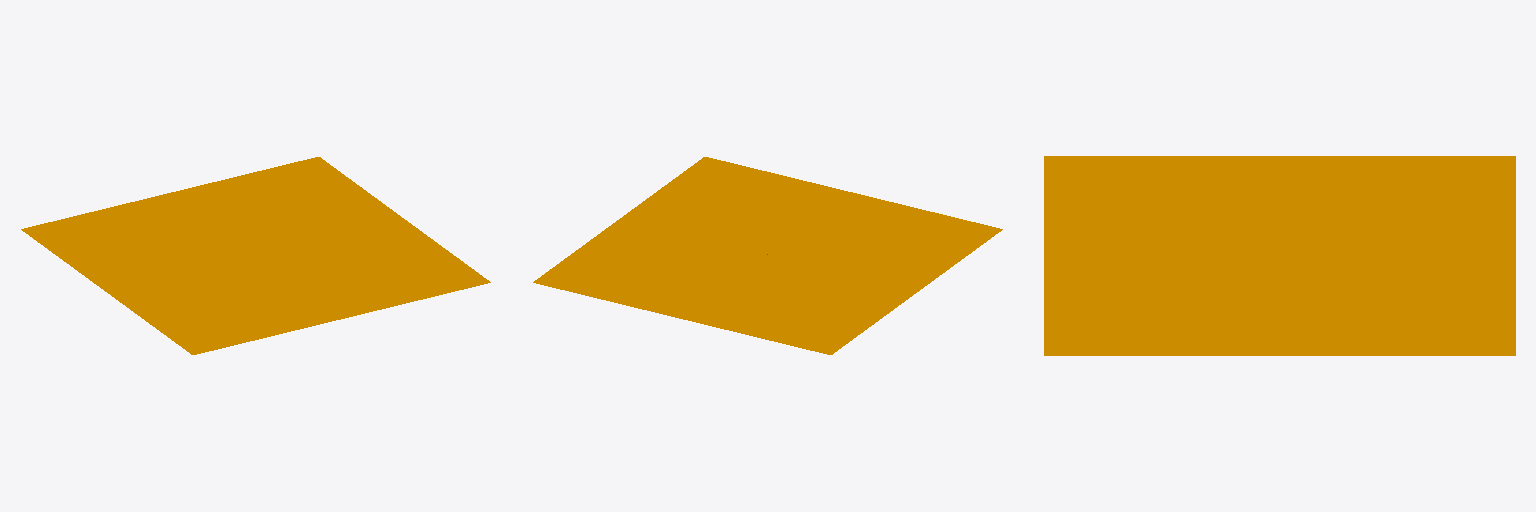
--- Facts derived from the render (not from the file) ---
The picture shows the robot from 3 angles, left to right: view 1: azimuth 30°, elevation 25°; view 2: azimuth 150°, elevation 25°; view 3: azimuth 270°, elevation 25°; orthographic projection.
Model new_hand1 with 19 links and 18 joints (17 revolute, 1 fixed), rooted at World, posed all joints at 0.
Links seen in each view (by area): view 1: World; view 2: World; view 3: World.
Boxes of the visible links, bbox=[...] form: World: bbox=[21, 157, 490, 354]; World: bbox=[533, 157, 1002, 354]; World: bbox=[1044, 156, 1515, 355].
Size in the robot's own frame: 50 by 50 by 0.333 metres.
Meshes: 63 distinct files referenced, 63 mesh visuals loaded (63 OBJ).

robot.urdf — new_hand1:
<?xml version="1.0" encoding="UTF-8"?>
<robot name="new_hand1">
  <joint name="right_index_abd" type="revolute">
    <origin xyz="-0.0260888 0.00334 0.0638849" rpy="1.5348927 -1.13552 3.0882027"/>
    <parent link="right_wrist_jointbody"/>
    <child link="right_index_abd_jointbody"/>
    <axis xyz="0. 0. 1."/>
    <limit lower="-1.04577" upper="0.24577" effort="100." velocity="99.9999945"/>
  </joint>
  <joint name="right_index_mcp" type="revolute">
    <origin xyz="0.02 0. -0. " rpy="3.1315856 1.5707927 -0.0100071"/>
    <parent link="right_index_abd_jointbody"/>
    <child link="right_index_mcp_jointbody"/>
    <axis xyz="0. 1. 0."/>
    <limit lower="-0.34907" upper="1.6580599" effort="100." velocity="99.9999945"/>
  </joint>
  <joint name="right_index_pip" type="revolute">
    <origin xyz="0.0005 0. -0.038 " rpy="0.0000001 0. 0. "/>
    <parent link="right_index_mcp_jointbody"/>
    <child link="right_index_pip_jointbody"/>
    <axis xyz="0. 1. 0."/>
    <limit lower="-0.34907" upper="1.88496" effort="100." velocity="99.9999945"/>
  </joint>
  <joint name="right_middle_abd" type="revolute">
    <origin xyz="-0.0020001 0.00144 0.06872 " rpy="-1.6035732 -1.5707927 0.0327734"/>
    <parent link="right_wrist_jointbody"/>
    <child link="right_middle_abd_jointbody"/>
    <axis xyz="0. 0. 1."/>
    <limit lower="-0.64577" upper="0.64577" effort="100." velocity="99.9999945"/>
  </joint>
  <joint name="right_middle_mcp" type="revolute">
    <origin xyz="0.02 -0. 0. " rpy="-3.1361406 1.5707927 0.005452 "/>
    <parent link="right_middle_abd_jointbody"/>
    <child link="right_middle_mcp_jointbody"/>
    <axis xyz="0. 1. 0."/>
    <limit lower="-0.34907" upper="1.58825" effort="100." velocity="99.9999945"/>
  </joint>
  <joint name="right_middle_pip" type="revolute">
    <origin xyz="0.0005 -0. -0.046 " rpy="-0.0000001 -0. -0.0000002"/>
    <parent link="right_middle_mcp_jointbody"/>
    <child link="right_middle_pip_jointbody"/>
    <axis xyz="0. 1. 0."/>
    <limit lower="-0.34907" upper="1.8674999" effort="100." velocity="99.9999945"/>
  </joint>
  <joint name="right_pinky_abd" type="revolute">
    <origin xyz="0.0405845 0.0064281 0.0459637" rpy="-1.6446526 -0.86149 0.2578627"/>
    <parent link="right_wrist_jointbody"/>
    <child link="right_pinky_abd_jointbody"/>
    <axis xyz="0. 0. 1."/>
    <limit lower="-0.12244" upper="1.1691" effort="100." velocity="99.9999945"/>
  </joint>
  <joint name="right_pinky_mcp" type="revolute">
    <origin xyz="0.02 -0. 0. " rpy="-3.1369045 1.5707927 0.004688 "/>
    <parent link="right_pinky_abd_jointbody"/>
    <child link="right_pinky_mcp_jointbody"/>
    <axis xyz="0. 1. 0."/>
    <limit lower="-0.34907" upper="1.7104199" effort="100." velocity="99.9999945"/>
  </joint>
  <joint name="right_pinky_pip" type="revolute">
    <origin xyz="0.0005 0. -0.033 " rpy="0.0000001 0.0000001 -0.0000003"/>
    <parent link="right_pinky_mcp_jointbody"/>
    <child link="right_pinky_pip_jointbody"/>
    <axis xyz="0. 1. 0."/>
    <limit lower="-0.34907" upper="1.88496" effort="100." velocity="99.9999945"/>
  </joint>
  <joint name="right_ring_abd" type="revolute">
    <origin xyz="0.019521 0.0029782 0.0595448" rpy="-1.6056225 -1.30836 0.0871825"/>
    <parent link="right_wrist_jointbody"/>
    <child link="right_ring_abd_jointbody"/>
    <axis xyz="0. 0. 1."/>
    <limit lower="-0.47577" upper="0.8057699" effort="100." velocity="99.9999945"/>
  </joint>
  <joint name="right_ring_mcp" type="revolute">
    <origin xyz="0.02 -0. -0. " rpy="3.1384497 1.5707927 -0.0031431"/>
    <parent link="right_ring_abd_jointbody"/>
    <child link="right_ring_mcp_jointbody"/>
    <axis xyz="0. 1. 0."/>
    <limit lower="-0.34907" upper="1.58825" effort="100." velocity="99.9999945"/>
  </joint>
  <joint name="right_ring_pip" type="revolute">
    <origin xyz="0.0005 0. -0.046 " rpy="0. 0. -0."/>
    <parent link="right_ring_mcp_jointbody"/>
    <child link="right_ring_pip_jointbody"/>
    <axis xyz="0. 1. 0."/>
    <limit lower="-0.34907" upper="1.8674999" effort="100." velocity="99.9999945"/>
  </joint>
  <joint name="right_thumb_abd" type="revolute">
    <origin xyz="-0. 0. -0." rpy="1.9198629 -0.0000002 1.5707964"/>
    <parent link="right_thumb_mcp_jointbody"/>
    <child link="right_thumb_abd_jointbody"/>
    <axis xyz="1. 0. 0."/>
    <limit lower="-1.08211" upper="0." effort="100." velocity="99.9999945"/>
  </joint>
  <joint name="right_thumb_dip" type="revolute">
    <origin xyz="0.0005 -0. -0.033 " rpy="-0.0000002 -0.0000001 0.0000001"/>
    <parent link="right_thumb_pip_jointbody"/>
    <child link="right_thumb_dip_jointbody"/>
    <axis xyz="0. 1. 0."/>
    <limit lower="-0.8538399" upper="1.45" effort="100." velocity="99.9999945"/>
  </joint>
  <joint name="right_thumb_mcp" type="revolute">
    <origin xyz="-0.03021 0.01921 0.02551" rpy="2.6030226 0.05595 1.8711226"/>
    <parent link="right_wrist_jointbody"/>
    <child link="right_thumb_mcp_jointbody"/>
    <axis xyz="0. 0. 1."/>
    <limit lower="-0.87266" upper="0.87266" effort="100." velocity="99.9999945"/>
  </joint>
  <joint name="right_thumb_pip" type="revolute">
    <origin xyz="0. 0.0102606 0.0281908" rpy="-2.8120465 0.1172432 2.8120427"/>
    <parent link="right_thumb_abd_jointbody"/>
    <child link="right_thumb_pip_jointbody"/>
    <axis xyz="0. 1. 0."/>
    <limit lower="-0.7943999" upper="1.23" effort="100." velocity="99.9999945"/>
  </joint>
  <joint name="right_wrist" type="revolute">
    <origin xyz="0.00063 0. 0.10487" rpy="0. 0. 0."/>
    <parent link="hand_base"/>
    <child link="right_wrist_jointbody"/>
    <axis xyz="1. 0. 0."/>
    <limit lower="-0.6736" upper="0.8971999" effort="100." velocity="99.9999945"/>
  </joint>
  <joint name="root_joint" type="fixed">
    <origin xyz="0. 0. 0.0498567" rpy="0. 0. 0."/>
    <parent link="World"/>
    <child link="hand_base"/>
  </joint>
  <link name="World">
    <visual>
      <origin xyz="0. 0. 0." rpy="0. 0. 0."/>
      <geometry>
        <mesh filename="meshes/CollisionMesh.obj" scale="1. 1. 1."/>
      </geometry>
    </visual>
  </link>
  <link name="hand_base">
    <inertial>
      <origin xyz="0.0003396 -0.000909 0.0190988" rpy="0. 0. 0."/>
      <mass value="0.901"/>
      <inertia ixx="0.0015041" ixy="0.0000104" ixz="-0.0000052" iyy="0.0012534" iyz="-0.0000014" izz="0.0007962"/>
    </inertial>
    <visual>
      <origin xyz="0.0006951 -0.0001251 0.0231229" rpy="-0.0072522 -0.0043563 1.5339901"/>
      <geometry>
        <mesh filename="meshes/right_visual_tower_main_mesh_mesh.obj" scale="1. 1. 1."/>
      </geometry>
    </visual>
    <visual>
      <origin xyz="0.0006201 -0.0000037 0.0093393" rpy="1.5694791 0.0001519 -0.0006505"/>
      <geometry>
        <mesh filename="meshes/right_visual_tower_hull_mesh_mesh.obj" scale="1. 1. 1."/>
      </geometry>
    </visual>
    <visual>
      <origin xyz="0.0006175 0.0000044 0.0273773" rpy="-0.0000578 -1.5702411 1.5988764"/>
      <geometry>
        <mesh filename="meshes/right_visual_tower_text_mesh_mesh.obj" scale="1. 1. 1."/>
      </geometry>
    </visual>
    <visual>
      <origin xyz="0.0010261 0.0008755 0.0375895" rpy="0.0663642 -0.105327 -0.7765911"/>
      <geometry>
        <mesh filename="meshes/right_collision_tower_main_mesh_mesh.obj" scale="1. 1. 1."/>
      </geometry>
    </visual>
    <visual>
      <origin xyz="0.0006188 0.0000071 0.0093062" rpy="1.5691929 -0.0000693 -0.0012917"/>
      <geometry>
        <mesh filename="meshes/right_collision_tower_hull_mesh_mesh.obj" scale="1. 1. 1."/>
      </geometry>
    </visual>
    <visual>
      <origin xyz="0.0006835 -0.0011251 0.0277161" rpy="-2.2396595 -1.5545672 -2.4480784"/>
      <geometry>
        <mesh filename="meshes/right_collision_tower_text_mesh_mesh.obj" scale="1. 1. 1."/>
      </geometry>
    </visual>
  </link>
  <link name="right_index_abd_jointbody">
    <inertial>
      <origin xyz="-0.007037 0. -0.0000333" rpy="0. 0. 0."/>
      <mass value="0.00598"/>
      <inertia ixx="0.0000002" ixy="0." ixz="-0." iyy="0.0000004" iyz="0." izz="0.0000004"/>
    </inertial>
    <visual>
      <origin xyz="0.0093015 -0.0000139 0.0002788" rpy="-0.0118206 1.506674 -3.141592 "/>
      <geometry>
        <mesh filename="meshes/right_visual_index_mp_mesh_mesh.obj" scale="1. 1. 1."/>
      </geometry>
    </visual>
    <visual>
      <origin xyz="0.0095218 -0.0000446 0.0001648" rpy="-2.21338 1.5147948 0.9289652"/>
      <geometry>
        <mesh filename="meshes/right_collision_index_mp_mesh_mesh.obj" scale="1. 1. 1."/>
      </geometry>
    </visual>
  </link>
  <link name="right_index_mcp_jointbody">
    <inertial>
      <origin xyz="0.0012729 0.0000189 0.0154346" rpy="0. 0. 0."/>
      <mass value="0.0175"/>
      <inertia ixx="0.0000026" ixy="0." ixz="-0.0000001" iyy="0.0000026" iyz="0." izz="0.0000007"/>
    </inertial>
    <visual>
      <origin xyz="0.0012792 -0.0000432 -0.0160987" rpy="-3.1360765 -0.0351009 -0.0391045"/>
      <geometry>
        <mesh filename="meshes/right_visual_index_pp_mesh_mesh.obj" scale="1. 1. 1."/>
      </geometry>
    </visual>
    <visual>
      <origin xyz="0.0016617 -0.0000001 -0.0187639" rpy="0.0000002 0.8345405 0.0000001"/>
      <geometry>
        <mesh filename="meshes/right_visual_index_pp_skin_mesh_mesh.obj" scale="1. 1. 1."/>
      </geometry>
    </visual>
    <visual>
      <origin xyz="0.0013517 -0.0000112 -0.0156818" rpy="-3.1415925 -0.0428807 0. "/>
      <geometry>
        <mesh filename="meshes/right_collision_index_pp_mesh_mesh.obj" scale="1. 1. 1."/>
      </geometry>
    </visual>
    <visual>
      <origin xyz="0.0016774 0.0000055 -0.0187409" rpy="0.0000002 0.8259684 0.0000001"/>
      <geometry>
        <mesh filename="meshes/right_collision_index_pp_skin_mesh_mesh.obj" scale="1. 1. 1."/>
      </geometry>
    </visual>
  </link>
  <link name="right_index_pip_jointbody">
    <inertial>
      <origin xyz="0.0006662 0.0000094 0.0181 " rpy="0. 0. 0."/>
      <mass value="0.01621"/>
      <inertia ixx="0.0000024" ixy="-0." ixz="0.0000003" iyy="0.0000024" iyz="0." izz="0.0000006"/>
    </inertial>
    <visual>
      <origin xyz="0.0010417 -0.0000784 -0.0117937" rpy="3.1071048 0.003439 -1.570915 "/>
      <geometry>
        <mesh filename="meshes/right_visual_index_ip_mesh_mesh.obj" scale="1. 1. 1."/>
      </geometry>
    </visual>
    <visual>
      <origin xyz="0.0006178 0.0000003 -0.0229819" rpy="3.1415927 0.4563592 0. "/>
      <geometry>
        <mesh filename="meshes/right_visual_index_ip_skin_mesh_mesh.obj" scale="1. 1. 1."/>
      </geometry>
    </visual>
    <visual>
      <origin xyz="0.0012645 0.0000164 -0.011472 " rpy="-3.139792 0. -1.5707964"/>
      <geometry>
        <mesh filename="meshes/right_collision_index_ip_mesh_mesh.obj" scale="1. 1. 1."/>
      </geometry>
    </visual>
    <visual>
      <origin xyz="0.0006217 -0.0000024 -0.023021 " rpy="3.1415927 0.4457044 0. "/>
      <geometry>
        <mesh filename="meshes/right_collision_index_ip_skin_mesh_mesh.obj" scale="1. 1. 1."/>
      </geometry>
    </visual>
  </link>
  <link name="right_middle_abd_jointbody">
    <inertial>
      <origin xyz="-0.007037 0. -0.0000333" rpy="0. 0. 0."/>
      <mass value="0.00598"/>
      <inertia ixx="0.0000002" ixy="0." ixz="-0." iyy="0.0000004" iyz="0." izz="0.0000004"/>
    </inertial>
    <visual>
      <origin xyz="0.0093015 -0.0000139 0.0002788" rpy="-0.0118215 1.506674 3.1415923"/>
      <geometry>
        <mesh filename="meshes/right_visual_middle_mp_mesh_mesh.obj" scale="1. 1. 1."/>
      </geometry>
    </visual>
    <visual>
      <origin xyz="0.0095218 -0.0000446 0.0001648" rpy="-2.21338 1.5147948 0.9289652"/>
      <geometry>
        <mesh filename="meshes/right_collision_middle_mp_mesh_mesh.obj" scale="1. 1. 1."/>
      </geometry>
    </visual>
  </link>
  <link name="right_middle_mcp_jointbody">
    <inertial>
      <origin xyz="0.0013716 0.0000191 0.0192504" rpy="0. 0. 0."/>
      <mass value="0.02106"/>
      <inertia ixx="0.0000042" ixy="0." ixz="-0.0000001" iyy="0.0000041" iyz="-0." izz="0.0000009"/>
    </inertial>
    <visual>
      <origin xyz="0.0012834 -0.000037 -0.0202272" rpy="-3.137028 -0.0276588 -0.037584 "/>
      <geometry>
        <mesh filename="meshes/right_visual_middle_pp_mesh_mesh.obj" scale="1. 1. 1."/>
      </geometry>
    </visual>
    <visual>
      <origin xyz="0.0017297 -0. -0.0229383" rpy="3.1415925 0.223125 -0.0000002"/>
      <geometry>
        <mesh filename="meshes/right_visual_middle_pp_skin_mesh_mesh.obj" scale="1. 1. 1."/>
      </geometry>
    </visual>
    <visual>
      <origin xyz="0.0013394 0.0000068 -0.0201193" rpy="3.1409516 -0.0298785 -0.0000001"/>
      <geometry>
        <mesh filename="meshes/right_collision_middle_pp_mesh_mesh.obj" scale="1. 1. 1."/>
      </geometry>
    </visual>
    <visual>
      <origin xyz="0.0017526 -0.0000027 -0.0228851" rpy="3.1415925 0.220061 -0.0000002"/>
      <geometry>
        <mesh filename="meshes/right_collision_middle_pp_skin_mesh_mesh.obj" scale="1. 1. 1."/>
      </geometry>
    </visual>
  </link>
  <link name="right_middle_pip_jointbody">
    <inertial>
      <origin xyz="0.0006662 0.0000094 0.0181 " rpy="0. 0. 0."/>
      <mass value="0.01621"/>
      <inertia ixx="0.0000024" ixy="-0." ixz="0.0000003" iyy="0.0000024" iyz="0." izz="0.0000006"/>
    </inertial>
    <visual>
      <origin xyz="0.0010417 -0.0000784 -0.0117938" rpy="3.1071048 0.003439 -1.570915 "/>
      <geometry>
        <mesh filename="meshes/right_visual_middle_ip_mesh_mesh.obj" scale="1. 1. 1."/>
      </geometry>
    </visual>
    <visual>
      <origin xyz="0.0006178 0.0000003 -0.0229819" rpy="3.1415927 0.4563592 0. "/>
      <geometry>
        <mesh filename="meshes/right_visual_middle_ip_skin_mesh_mesh.obj" scale="1. 1. 1."/>
      </geometry>
    </visual>
    <visual>
      <origin xyz="0.0012645 0.0000164 -0.011472 " rpy="-3.139792 0. -1.5707964"/>
      <geometry>
        <mesh filename="meshes/right_collision_middle_ip_mesh_mesh.obj" scale="1. 1. 1."/>
      </geometry>
    </visual>
    <visual>
      <origin xyz="0.0006217 -0.0000024 -0.0230211" rpy="3.1415927 0.4457044 0. "/>
      <geometry>
        <mesh filename="meshes/right_collision_middle_ip_skin_mesh_mesh.obj" scale="1. 1. 1."/>
      </geometry>
    </visual>
  </link>
  <link name="right_pinky_abd_jointbody">
    <inertial>
      <origin xyz="-0.007037 0. -0.0000333" rpy="0. 0. 0."/>
      <mass value="0.00598"/>
      <inertia ixx="0.0000002" ixy="0." ixz="-0." iyy="0.0000004" iyz="0." izz="0.0000004"/>
    </inertial>
    <visual>
      <origin xyz="0.0093015 -0.0000139 0.0002788" rpy="-0.0118215 1.5066742 3.1415923"/>
      <geometry>
        <mesh filename="meshes/right_visual_pinky_mp_mesh_mesh.obj" scale="1. 1. 1."/>
      </geometry>
    </visual>
    <visual>
      <origin xyz="0.0095218 -0.0000446 0.0001648" rpy="-2.2133806 1.5147948 0.9289647"/>
      <geometry>
        <mesh filename="meshes/right_collision_pinky_mp_mesh_mesh.obj" scale="1. 1. 1."/>
      </geometry>
    </visual>
  </link>
  <link name="right_pinky_mcp_jointbody">
    <inertial>
      <origin xyz="0.0012601 0.0000187 0.0129092" rpy="0. 0. 0."/>
      <mass value="0.01502"/>
      <inertia ixx="0.0000019" ixy="0." ixz="-0.0000001" iyy="0.0000018" iyz="0." izz="0.0000006"/>
    </inertial>
    <visual>
      <origin xyz="0.0012999 -0.0000072 -0.0136199" rpy="-3.1415925 -0.0433892 -0.0000003"/>
      <geometry>
        <mesh filename="meshes/right_visual_pinky_pp_mesh_mesh.obj" scale="1. 1. 1."/>
      </geometry>
    </visual>
    <visual>
      <origin xyz="0.0015424 -0.0000002 -0.0162596" rpy="0.0000003 1.2480961 -0.0000001"/>
      <geometry>
        <mesh filename="meshes/right_visual_pinky_pp_skin_mesh_mesh.obj" scale="1. 1. 1."/>
      </geometry>
    </visual>
    <visual>
      <origin xyz="0.001356 -0.0001271 -0.0134463" rpy="-3.1345098 -0.047637 -0.0000003"/>
      <geometry>
        <mesh filename="meshes/right_collision_pinky_pp_mesh_mesh.obj" scale="1. 1. 1."/>
      </geometry>
    </visual>
    <visual>
      <origin xyz="0.0015528 -0.0000065 -0.0162467" rpy="0.0000003 1.2437718 -0.0000001"/>
      <geometry>
        <mesh filename="meshes/right_collision_pinky_pp_skin_mesh_mesh.obj" scale="1. 1. 1."/>
      </geometry>
    </visual>
  </link>
  <link name="right_pinky_pip_jointbody">
    <inertial>
      <origin xyz="0.0006662 0.0000094 0.0181 " rpy="0. 0. 0."/>
      <mass value="0.01621"/>
      <inertia ixx="0.0000024" ixy="-0." ixz="0.0000003" iyy="0.0000024" iyz="0." izz="0.0000006"/>
    </inertial>
    <visual>
      <origin xyz="0.0010417 -0.0000784 -0.0117938" rpy="3.1071048 0.003439 -1.570915 "/>
      <geometry>
        <mesh filename="meshes/right_visual_pinky_ip_mesh_mesh.obj" scale="1. 1. 1."/>
      </geometry>
    </visual>
    <visual>
      <origin xyz="0.0006178 0.0000003 -0.0229819" rpy="3.1415927 0.4563592 0. "/>
      <geometry>
        <mesh filename="meshes/right_visual_pinky_ip_skin_mesh_mesh.obj" scale="1. 1. 1."/>
      </geometry>
    </visual>
    <visual>
      <origin xyz="0.0012645 0.0000164 -0.011472 " rpy="-3.139792 0. -1.5707964"/>
      <geometry>
        <mesh filename="meshes/right_collision_pinky_ip_mesh_mesh.obj" scale="1. 1. 1."/>
      </geometry>
    </visual>
    <visual>
      <origin xyz="0.0006217 -0.0000024 -0.0230211" rpy="3.1415927 0.4457044 0. "/>
      <geometry>
        <mesh filename="meshes/right_collision_pinky_ip_skin_mesh_mesh.obj" scale="1. 1. 1."/>
      </geometry>
    </visual>
  </link>
  <link name="right_ring_abd_jointbody">
    <inertial>
      <origin xyz="-0.007037 0. -0.0000333" rpy="0. 0. 0."/>
      <mass value="0.00598"/>
      <inertia ixx="0.0000002" ixy="0." ixz="-0." iyy="0.0000004" iyz="0." izz="0.0000004"/>
    </inertial>
    <visual>
      <origin xyz="0.0093015 -0.0000139 0.0002788" rpy="-0.011821 1.506674 -3.1415925"/>
      <geometry>
        <mesh filename="meshes/right_visual_ring_mp_mesh_mesh.obj" scale="1. 1. 1."/>
      </geometry>
    </visual>
    <visual>
      <origin xyz="0.0095218 -0.0000446 0.0001648" rpy="-2.2133799 1.5147948 0.9289654"/>
      <geometry>
        <mesh filename="meshes/right_collision_ring_mp_mesh_mesh.obj" scale="1. 1. 1."/>
      </geometry>
    </visual>
  </link>
  <link name="right_ring_mcp_jointbody">
    <inertial>
      <origin xyz="0.0013716 0.0000191 0.0192504" rpy="0. 0. 0."/>
      <mass value="0.02106"/>
      <inertia ixx="0.0000042" ixy="0." ixz="-0.0000001" iyy="0.0000041" iyz="-0." izz="0.0000009"/>
    </inertial>
    <visual>
      <origin xyz="0.0012834 -0.000037 -0.0202272" rpy="-3.137028 -0.0276588 -0.0375839"/>
      <geometry>
        <mesh filename="meshes/right_visual_ring_pp_mesh_mesh.obj" scale="1. 1. 1."/>
      </geometry>
    </visual>
    <visual>
      <origin xyz="0.0017297 -0. -0.0229383" rpy="-3.1415927 0.2231251 -0. "/>
      <geometry>
        <mesh filename="meshes/right_visual_ring_pp_skin_mesh_mesh.obj" scale="1. 1. 1."/>
      </geometry>
    </visual>
    <visual>
      <origin xyz="0.0013394 0.0000068 -0.0201193" rpy="3.1409516 -0.0298784 -0. "/>
      <geometry>
        <mesh filename="meshes/right_collision_ring_pp_mesh_mesh.obj" scale="1. 1. 1."/>
      </geometry>
    </visual>
    <visual>
      <origin xyz="0.0017526 -0.0000027 -0.0228851" rpy="-3.1415927 0.220061 -0. "/>
      <geometry>
        <mesh filename="meshes/right_collision_ring_pp_skin_mesh_mesh.obj" scale="1. 1. 1."/>
      </geometry>
    </visual>
  </link>
  <link name="right_ring_pip_jointbody">
    <inertial>
      <origin xyz="0.0006662 0.0000094 0.0181 " rpy="0. 0. 0."/>
      <mass value="0.01621"/>
      <inertia ixx="0.0000024" ixy="-0." ixz="0.0000003" iyy="0.0000024" iyz="0." izz="0.0000006"/>
    </inertial>
    <visual>
      <origin xyz="0.0010417 -0.0000784 -0.0117937" rpy="3.1071048 0.003439 -1.570915 "/>
      <geometry>
        <mesh filename="meshes/right_visual_ring_ip_mesh_mesh.obj" scale="1. 1. 1."/>
      </geometry>
    </visual>
    <visual>
      <origin xyz="0.0006178 0.0000003 -0.0229819" rpy="3.1415927 0.4563592 0. "/>
      <geometry>
        <mesh filename="meshes/right_visual_ring_ip_skin_mesh_mesh.obj" scale="1. 1. 1."/>
      </geometry>
    </visual>
    <visual>
      <origin xyz="0.0012645 0.0000164 -0.011472 " rpy="-3.139792 0. -1.5707964"/>
      <geometry>
        <mesh filename="meshes/right_collision_ring_ip_mesh_mesh.obj" scale="1. 1. 1."/>
      </geometry>
    </visual>
    <visual>
      <origin xyz="0.0006217 -0.0000024 -0.023021 " rpy="3.1415927 0.4457044 0. "/>
      <geometry>
        <mesh filename="meshes/right_collision_ring_ip_skin_mesh_mesh.obj" scale="1. 1. 1."/>
      </geometry>
    </visual>
  </link>
  <link name="right_thumb_abd_jointbody">
    <inertial>
      <origin xyz="-0.0099942 0.0000087 0.0000174" rpy="0. 0. 0."/>
      <mass value="0.00755"/>
      <inertia ixx="0.0000003" ixy="0." ixz="0." iyy="0.0000008" iyz="-0." izz="0.0000008"/>
    </inertial>
    <visual>
      <origin xyz="-0.0000952 0.0042424 0.0115234" rpy="2.8856726 -0.2342454 -0.7629122"/>
      <geometry>
        <mesh filename="meshes/right_visual_thumb_pp_mesh_mesh.obj" scale="1. 1. 1."/>
      </geometry>
    </visual>
    <visual>
      <origin xyz="-0.0000952 0.0044057 0.0119384" rpy="2.8490174 -0.1803366 -0.5422454"/>
      <geometry>
        <mesh filename="meshes/right_collision_thumb_pp_mesh_mesh.obj" scale="1. 1. 1."/>
      </geometry>
    </visual>
  </link>
  <link name="right_thumb_dip_jointbody">
    <inertial>
      <origin xyz="0.0021659 0.0000093 0.0105321" rpy="0. 0. 0."/>
      <mass value="0.0142"/>
      <inertia ixx="0.0000015" ixy="0." ixz="-0.0000001" iyy="0.0000015" iyz="0." izz="0.0000005"/>
    </inertial>
    <visual>
      <origin xyz="0.0017377 0.0000054 -0.0051273" rpy="3.1415927 -0.246983 0. "/>
      <geometry>
        <mesh filename="meshes/right_visual_thumb_dp_mesh_mesh.obj" scale="1. 1. 1."/>
      </geometry>
    </visual>
    <visual>
      <origin xyz="0.0027934 0.0000006 -0.016601 " rpy="0.0000001 0.4023979 0. "/>
      <geometry>
        <mesh filename="meshes/right_visual_thumb_dp_skin_mesh_mesh.obj" scale="1. 1. 1."/>
      </geometry>
    </visual>
    <visual>
      <origin xyz="0.0020245 -0.0000368 -0.0055337" rpy="-2.8988683 0.0081907 -1.5687683"/>
      <geometry>
        <mesh filename="meshes/right_collision_thumb_dp_mesh_mesh.obj" scale="1. 1. 1."/>
      </geometry>
    </visual>
    <visual>
      <origin xyz="0.0027855 0.0000069 -0.0165575" rpy="0.0000001 0.3963953 0. "/>
      <geometry>
        <mesh filename="meshes/right_collision_thumb_dp_skin_mesh_mesh.obj" scale="1. 1. 1."/>
      </geometry>
    </visual>
  </link>
  <link name="right_thumb_mcp_jointbody">
    <inertial>
      <origin xyz="0.0021099 0. 0.0034169" rpy="0. 0. 0."/>
      <mass value="0.00686"/>
      <inertia ixx="0.0000009" ixy="0." ixz="-0." iyy="0.0000007" iyz="0." izz="0.0000003"/>
    </inertial>
    <visual>
      <origin xyz="-0.0026673 -0.0000037 -0.0032022" rpy="3.1370592 0.0029216 -3.1415925"/>
      <geometry>
        <mesh filename="meshes/right_visual_thumb_mp_mesh_mesh.obj" scale="1. 1. 1."/>
      </geometry>
    </visual>
    <visual>
      <origin xyz="-0.0025186 0.0000118 -0.0033326" rpy="3.1375663 0. -3.1415925"/>
      <geometry>
        <mesh filename="meshes/right_collision_thumb_mp_mesh_mesh.obj" scale="1. 1. 1."/>
      </geometry>
    </visual>
  </link>
  <link name="right_thumb_pip_jointbody">
    <inertial>
      <origin xyz="0.0012601 0.0000187 0.0129092" rpy="0. 0. 0."/>
      <mass value="0.01502"/>
      <inertia ixx="0.0000019" ixy="0." ixz="-0.0000001" iyy="0.0000018" iyz="0." izz="0.0000006"/>
    </inertial>
    <visual>
      <origin xyz="0.0012999 -0.0000072 -0.0136199" rpy="3.1415925 -0.0433893 0.0000001"/>
      <geometry>
        <mesh filename="meshes/right_visual_thumb_ip_mesh_mesh.obj" scale="1. 1. 1."/>
      </geometry>
    </visual>
    <visual>
      <origin xyz="0.0015424 -0.0000002 -0.0162596" rpy="-0.0000004 1.248096 -0.0000004"/>
      <geometry>
        <mesh filename="meshes/right_visual_thumb_ip_skin_mesh_mesh.obj" scale="1. 1. 1."/>
      </geometry>
    </visual>
    <visual>
      <origin xyz="0.001356 -0.0001271 -0.0134463" rpy="-3.13451 -0.0476372 0.0000001"/>
      <geometry>
        <mesh filename="meshes/right_collision_thumb_ip_mesh_mesh.obj" scale="1. 1. 1."/>
      </geometry>
    </visual>
    <visual>
      <origin xyz="0.0015528 -0.0000065 -0.0162467" rpy="-0.0000004 1.2437717 -0.0000004"/>
      <geometry>
        <mesh filename="meshes/right_collision_thumb_ip_skin_mesh_mesh.obj" scale="1. 1. 1."/>
      </geometry>
    </visual>
  </link>
  <link name="right_wrist_jointbody">
    <inertial>
      <origin xyz="-0.0000674 0.0008855 0.0308785" rpy="0. 0. 0."/>
      <mass value="0.0267"/>
      <inertia ixx="0.0000078" ixy="0.0000002" ixz="0.0000005" iyy="0.0000171" iyz="-0.0000003" izz="0.0000115"/>
    </inertial>
    <visual>
      <origin xyz="-0.0004432 0.0017637 0.0268236" rpy="2.0117252 0.0471796 1.5313832"/>
      <geometry>
        <mesh filename="meshes/right_visual_palm_mesh_mesh.obj" scale="1. 1. 1."/>
      </geometry>
    </visual>
    <visual>
      <origin xyz="0.0036733 0.0001697 0.0369756" rpy="1.7666059 0.1563942 1.6505203"/>
      <geometry>
        <mesh filename="meshes/right_visual_palm_skin_mesh_mesh.obj" scale="1. 1. 1."/>
      </geometry>
    </visual>
    <visual>
      <origin xyz="-0.0004204 0.0015776 0.0267961" rpy="2.026338 0.0449174 1.5318477"/>
      <geometry>
        <mesh filename="meshes/right_collision_palm_mesh_mesh.obj" scale="1. 1. 1."/>
      </geometry>
    </visual>
    <visual>
      <origin xyz="0.0060138 0.0001463 0.0371503" rpy="1.8840619 0.1678501 1.6839923"/>
      <geometry>
        <mesh filename="meshes/right_collision_palm_skin_mesh_mesh.obj" scale="1. 1. 1."/>
      </geometry>
    </visual>
  </link>
</robot>
